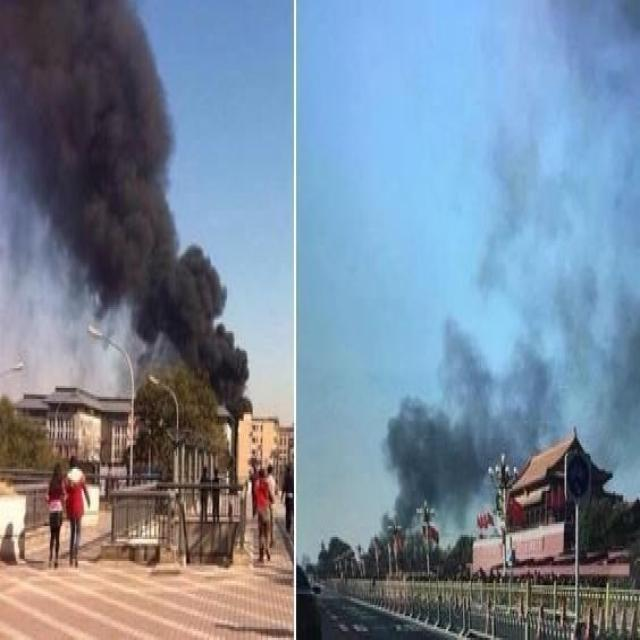Smoke: (378, 2, 640, 548), (1, 2, 254, 421)
